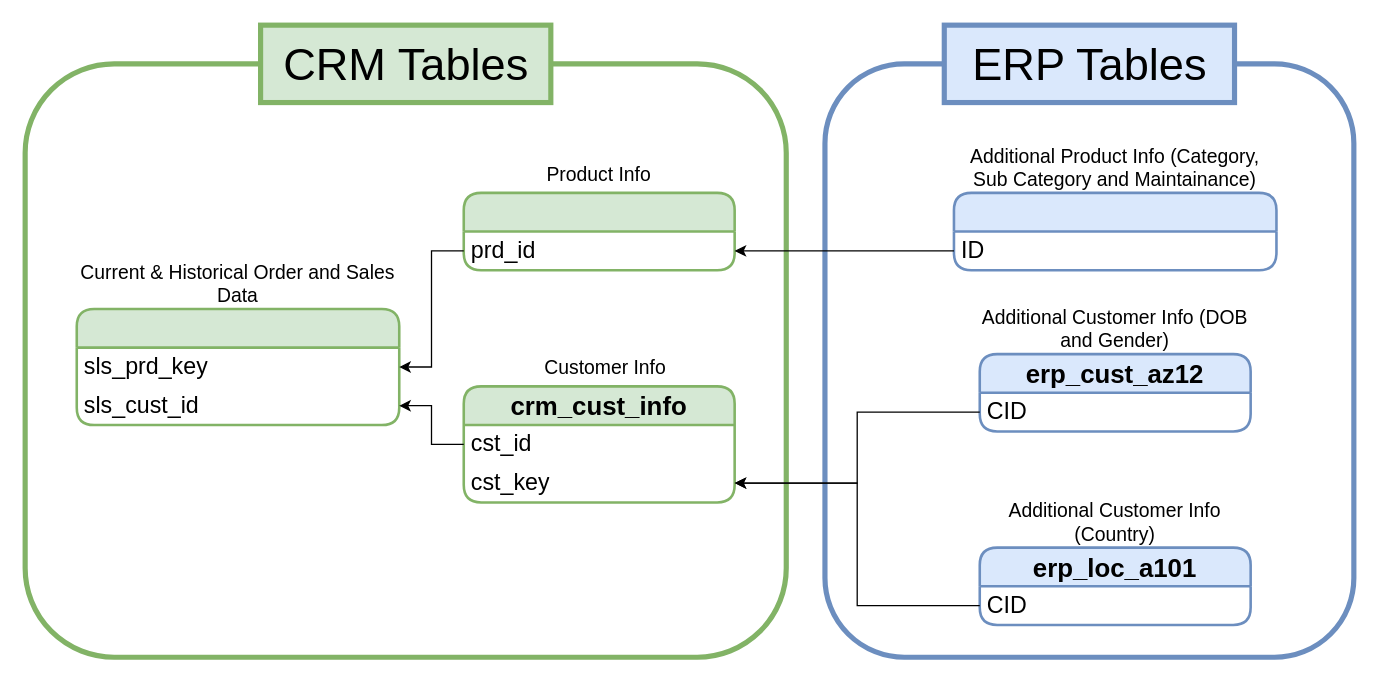
This 1378x681 diagram has some shape labels left out. Each missing label, with the box of its shape:
crm_prd_info: (462, 191, 735, 271)
crm_sales_details: (75, 307, 400, 426)
erp_px_cat_g1v2: (952, 191, 1277, 271)
